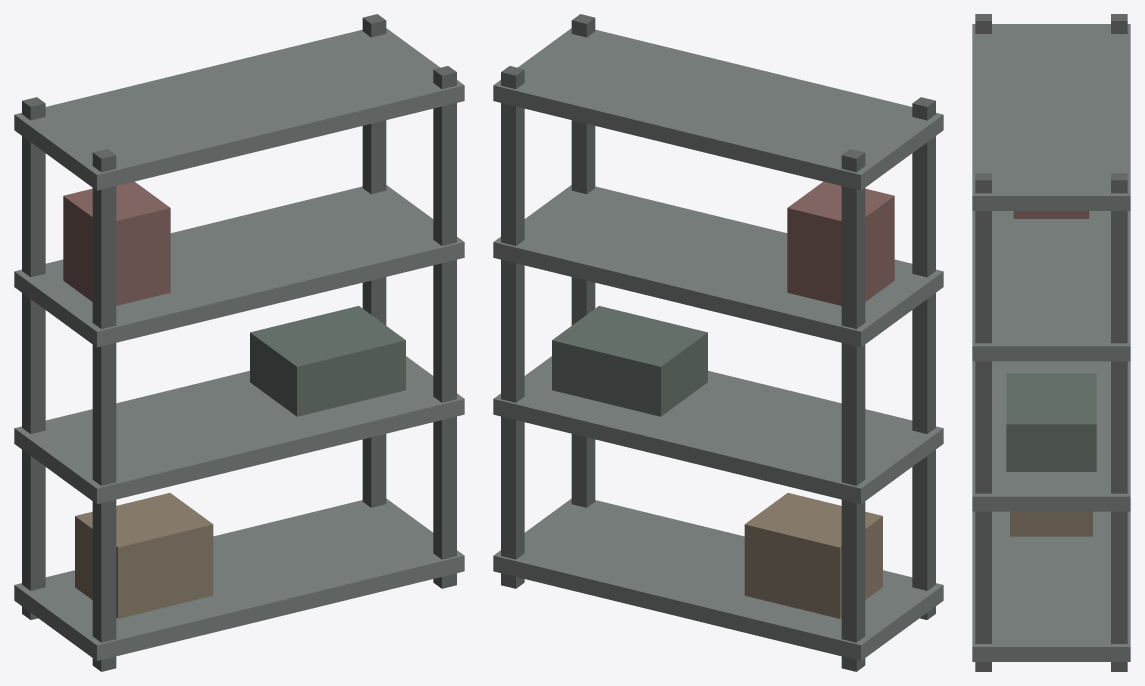
The model's file is metal_shelf.glb.
3 views of the same model, side by side, from view 1: azimuth 30°, elevation 25°; view 2: azimuth 150°, elevation 25°; view 3: azimuth 270°, elevation 25° (orthographic). The views are drawn at different scales.
Parts seen in each view (by area): view 1: shelf_7, shelf_6, shelf_4, shelf_5, toolbox_9, box_8, post_1, post_3, post_0, can_10, post_2; view 2: shelf_7, shelf_6, shelf_4, shelf_5, toolbox_9, box_8, post_0, post_2, post_1, can_10, post_3; view 3: shelf_7, shelf_6, shelf_4, shelf_5, toolbox_9, post_2, post_3, box_8, can_10, post_0, post_1.
Boxes of the visible parts, x1,y1,x2,y2 form: shelf_7: (14,28,464,190); shelf_6: (14,185,464,347); shelf_4: (14,498,464,660); shelf_5: (14,356,464,504); toolbox_9: (250,306,405,416); box_8: (75,493,213,618); post_1: (92,149,116,671); post_3: (433,66,456,588); post_0: (22,97,45,619); can_10: (63,181,170,305); post_2: (362,14,386,507); shelf_7: (493,28,943,190); shelf_6: (493,185,943,347); shelf_4: (493,498,943,660); shelf_5: (493,356,943,504); toolbox_9: (552,306,707,416); box_8: (744,493,882,618); post_0: (841,149,865,671); post_2: (501,66,524,588); post_1: (912,97,935,619); can_10: (787,181,894,305); post_3: (571,14,595,507); shelf_7: (972,24,1130,210); shelf_6: (972,211,1130,361); shelf_4: (972,511,1130,661); shelf_5: (972,361,1130,511); toolbox_9: (1006,373,1096,471); post_2: (1111,173,1127,671); post_3: (975,173,991,671); box_8: (1010,511,1092,536); can_10: (1013,211,1089,218); post_0: (1111,14,1127,33); post_1: (975,14,991,33).
Size of the model in its own units: 2.7 by 3.6 by 1.05.
